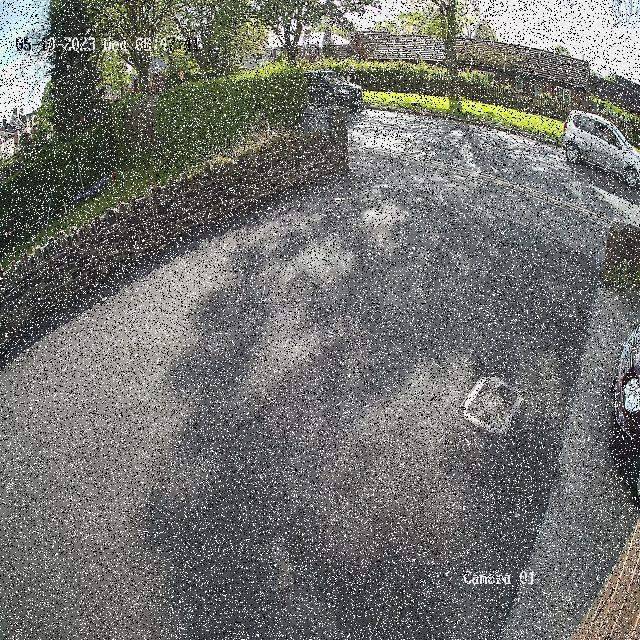vehicle: (561, 95, 640, 201), (303, 64, 365, 112)
